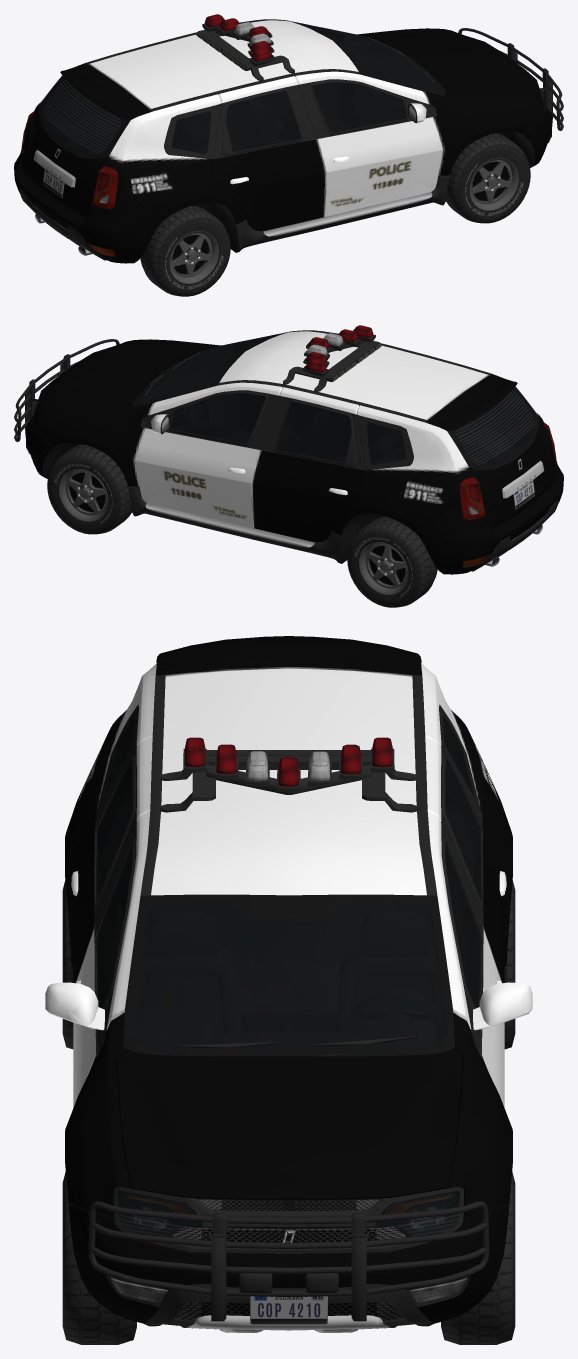
The model's file is urban10_police.glb.
3 views of the same model, one above another, from view 1: azimuth 30°, elevation 25°; view 2: azimuth 150°, elevation 25°; view 3: azimuth 270°, elevation 25° (orthographic). The views are drawn at different scales.
Parts seen in each view (by area): view 1: Urban10_body_Urban10_bodymat_0, Urban10_Interior_UCB_Interiors_2_0, Urban10_Bottom_UCB_BOTTOM_LT_0, Urban10_WheelLifted_RR_RO1a_Tire_0, Urban10_WheelLifted_FR_RO1a_Tire_0, Urban10_Bumper_Rear_Urban10_bodymat_0, Urban10_Body_Glass_UCB_Lights_and_Glass_Transperent_0, Urban10_Glass_Rear_UCB_Lights_and_Glass_Transperent_0, Urban10_Glass_Passenger_UCB_Lights_and_Glass_Transperent_0, Urban10_Lightbar_UCB_Lights_and_Glass_0, Urban10_Windshield_UCB_Lights_and_Glass_Transperent_0, Urban10_Bullbar_UCB_BOTTOM_LT_0 (+3 smaller); view 2: Urban10_body_Urban10_bodymat_0, Urban10_Bottom_UCB_BOTTOM_LT_0, Urban10_Interior_UCB_Interiors_2_0, Urban10_WheelLifted_RL_RO1a_Tire_0, Urban10_WheelLifted_FL_RO1a_Tire_0, Urban10_Bumper_Rear_Urban10_bodymat_0, Urban10_Body_Glass_UCB_Lights_and_Glass_Transperent_0, Urban10_Glass_Rear_UCB_Lights_and_Glass_Transperent_0, Urban10_Glass_Driver_UCB_Lights_and_Glass_Transperent_0, Urban10_Lightbar_UCB_Lights_and_Glass_0, Urban10_Windshield_UCB_Lights_and_Glass_Transperent_0, Urban10_Bullbar_UCB_BOTTOM_LT_0 (+4 smaller); view 3: Urban10_body_Urban10_bodymat_0, Urban10_Interior_UCB_Interiors_2_0, Urban10_Windshield_UCB_Lights_and_Glass_Transperent_0, Urban10_Bottom_UCB_BOTTOM_LT_0, Urban10_Bumper_Front_Urban10_bodymat_0, Urban10_Bullbar_UCB_BOTTOM_LT_0, Urban10_Lightbar_UCB_Lights_and_Glass_0, Urban10_Bumper_Front_Inner_UCB_BOTTOM_LT_0, Urban10_Body_Glass_UCB_Lights_and_Glass_Transperent_0, Urban10_Headlight_Glass_UCB_Lights_and_Glass_Transperent_0, Urban10_WheelLifted_FR_RO1a_Tire_0, Urban10_WheelLifted_FL_RO1a_Tire_0 (+7 smaller).
Part boxes in pixels (<box>): Urban10_body_Urban10_bodymat_0: <box>21,20,544,231</box>; Urban10_Interior_UCB_Interiors_2_0: <box>44,23,439,154</box>; Urban10_Bottom_UCB_BOTTOM_LT_0: <box>22,19,546,255</box>; Urban10_WheelLifted_RR_RO1a_Tire_0: <box>140,205,230,296</box>; Urban10_WheelLifted_FR_RO1a_Tire_0: <box>446,133,530,223</box>; Urban10_Bumper_Rear_Urban10_bodymat_0: <box>14,149,162,263</box>; Urban10_Body_Glass_UCB_Lights_and_Glass_Transperent_0: <box>171,90,300,153</box>; Urban10_Glass_Rear_UCB_Lights_and_Glass_Transperent_0: <box>43,79,121,155</box>; Urban10_Glass_Passenger_UCB_Lights_and_Glass_Transperent_0: <box>312,82,406,132</box>; Urban10_Lightbar_UCB_Lights_and_Glass_0: <box>196,14,294,80</box>; Urban10_Windshield_UCB_Lights_and_Glass_Transperent_0: <box>296,22,439,92</box>; Urban10_Bullbar_UCB_BOTTOM_LT_0: <box>458,28,563,130</box>; Urban10_body_Urban10_bodymat_0: <box>33,331,556,548</box>; Urban10_Bottom_UCB_BOTTOM_LT_0: <box>31,330,553,566</box>; Urban10_Interior_UCB_Interiors_2_0: <box>138,335,533,465</box>; Urban10_WheelLifted_RL_RO1a_Tire_0: <box>347,516,437,607</box>; Urban10_WheelLifted_FL_RO1a_Tire_0: <box>47,444,131,534</box>; Urban10_Bumper_Rear_Urban10_bodymat_0: <box>415,460,563,574</box>; Urban10_Body_Glass_UCB_Lights_and_Glass_Transperent_0: <box>277,401,406,464</box>; Urban10_Glass_Rear_UCB_Lights_and_Glass_Transperent_0: <box>456,390,534,466</box>; Urban10_Glass_Driver_UCB_Lights_and_Glass_Transperent_0: <box>171,393,265,443</box>; Urban10_Lightbar_UCB_Lights_and_Glass_0: <box>283,325,381,391</box>; Urban10_Windshield_UCB_Lights_and_Glass_Transperent_0: <box>138,333,281,403</box>; Urban10_Bullbar_UCB_BOTTOM_LT_0: <box>14,339,119,441</box>; Urban10_body_Urban10_bodymat_0: <box>45,636,532,1253</box>; Urban10_Interior_UCB_Interiors_2_0: <box>98,718,479,1198</box>; Urban10_Windshield_UCB_Lights_and_Glass_Transperent_0: <box>130,901,447,1047</box>; Urban10_Bottom_UCB_BOTTOM_LT_0: <box>66,674,511,1253</box>; Urban10_Bumper_Front_Urban10_bodymat_0: <box>68,1204,509,1323</box>; Urban10_Bullbar_UCB_BOTTOM_LT_0: <box>88,1201,489,1321</box>; Urban10_Lightbar_UCB_Lights_and_Glass_0: <box>160,737,417,812</box>; Urban10_Bumper_Front_Inner_UCB_BOTTOM_LT_0: <box>106,1275,471,1332</box>; Urban10_Body_Glass_UCB_Lights_and_Glass_Transperent_0: <box>96,715,481,901</box>; Urban10_Headlight_Glass_UCB_Lights_and_Glass_Transperent_0: <box>118,1191,459,1236</box>; Urban10_WheelLifted_FR_RO1a_Tire_0: <box>62,1172,136,1344</box>; Urban10_WheelLifted_FL_RO1a_Tire_0: <box>441,1172,515,1344</box>.
Size of the model in its own units: 4.36 by 1.7 by 1.88.
Materials: 8 (8 with a texture image).
